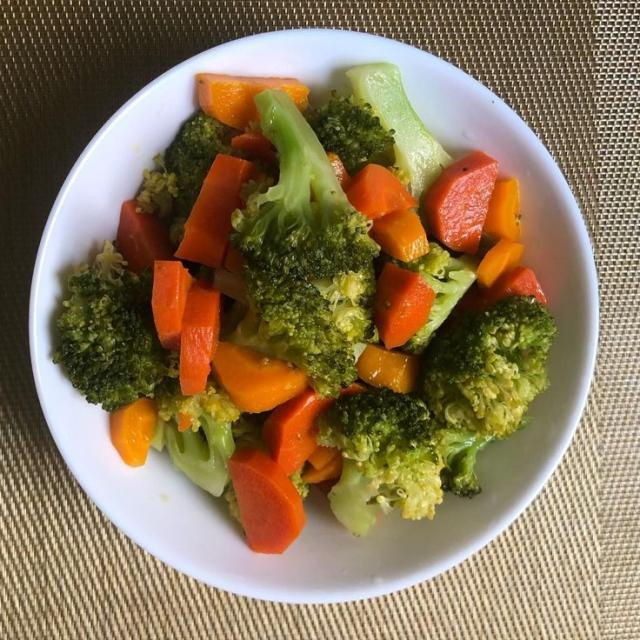broccoli: (232, 91, 378, 394), (54, 243, 168, 411), (423, 296, 556, 438), (318, 388, 442, 534), (347, 63, 451, 199), (156, 382, 239, 496), (394, 243, 476, 353), (306, 91, 393, 173), (165, 112, 233, 216), (314, 273, 374, 343), (156, 380, 239, 430), (434, 429, 493, 497), (137, 154, 178, 218), (233, 414, 267, 453), (223, 482, 243, 526), (289, 469, 309, 499), (169, 216, 186, 246)
carrot: (175, 154, 254, 266), (230, 447, 305, 552), (422, 151, 497, 253), (213, 342, 307, 412), (197, 74, 309, 129), (263, 387, 333, 474), (374, 263, 435, 348), (180, 281, 220, 395), (117, 201, 174, 272), (343, 165, 417, 218), (151, 260, 193, 350), (110, 398, 157, 464), (357, 343, 418, 392), (372, 210, 428, 262), (484, 267, 546, 304), (477, 239, 523, 288), (483, 178, 519, 239), (302, 450, 342, 483), (231, 131, 274, 161), (328, 152, 349, 186), (309, 445, 337, 470)
